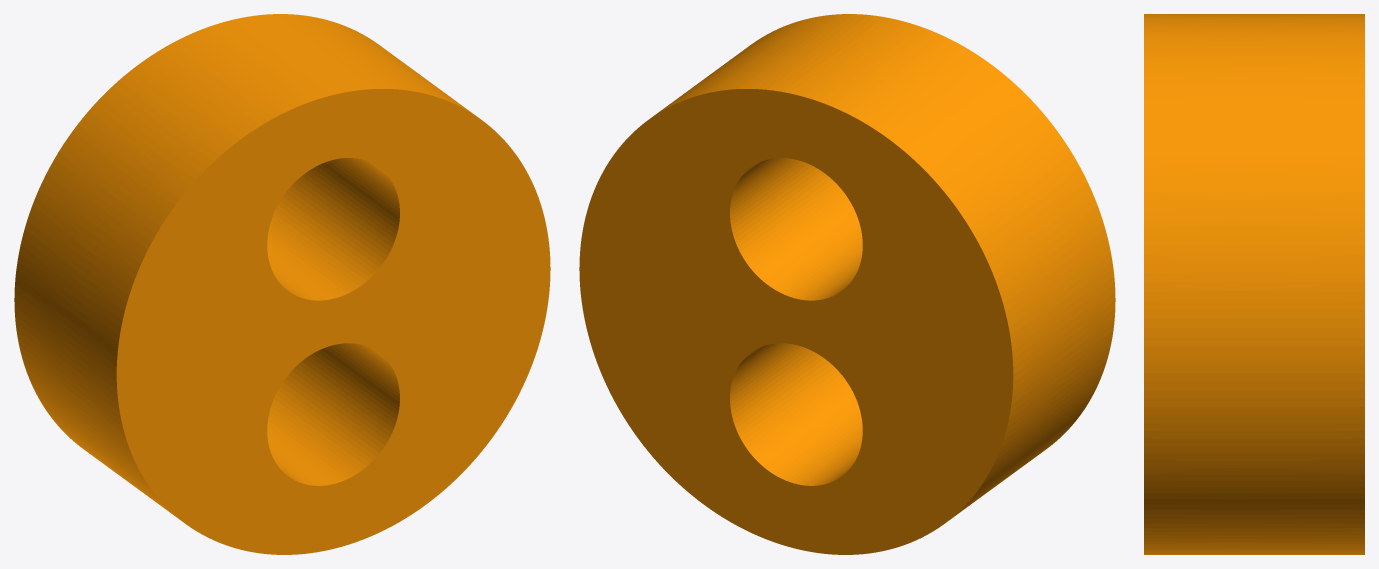
File: SGOP_data_8.obj
3 renders of one model, left to right at view 1: azimuth 30°, elevation 25°; view 2: azimuth 150°, elevation 25°; view 3: azimuth 270°, elevation 25°, orthographic. The views are drawn at different scales.
Size of the model in its own units: 24.5 by 24.5 by 10.
